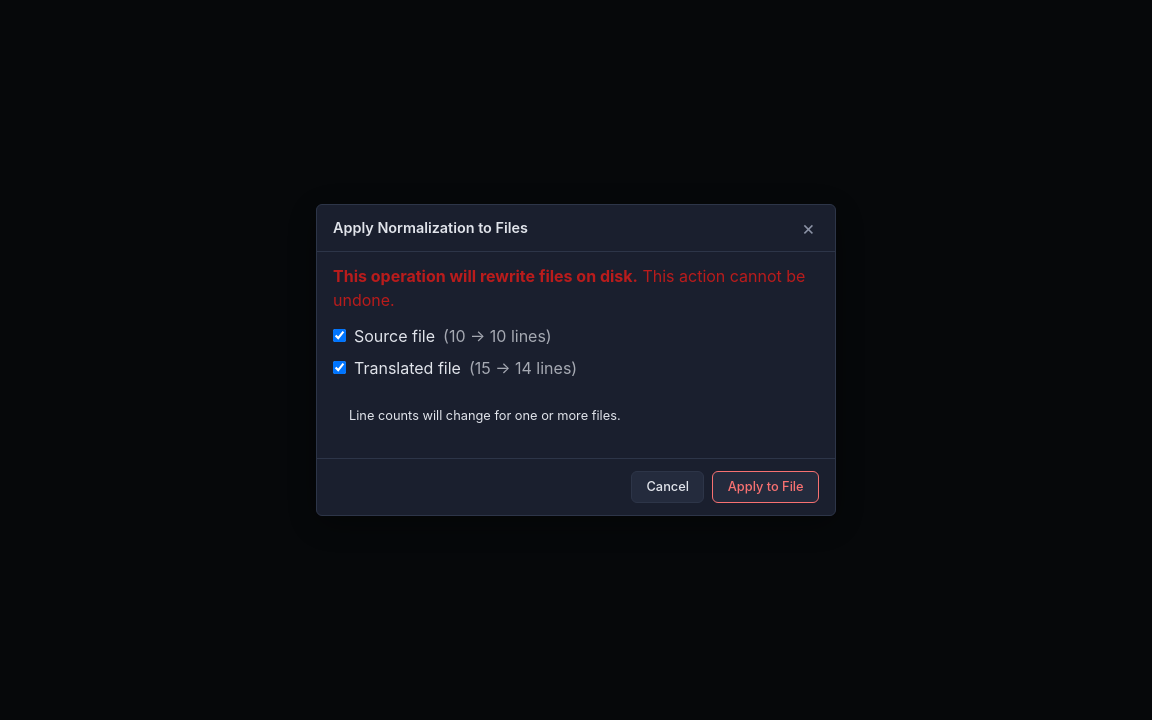
Test case: ApplyConfirmationModal › disables Apply button when both checkboxes are unchecked
Click the checkbox labelled "Source file(10 → 10 lines)" at (340, 336), box [333, 329, 346, 342]
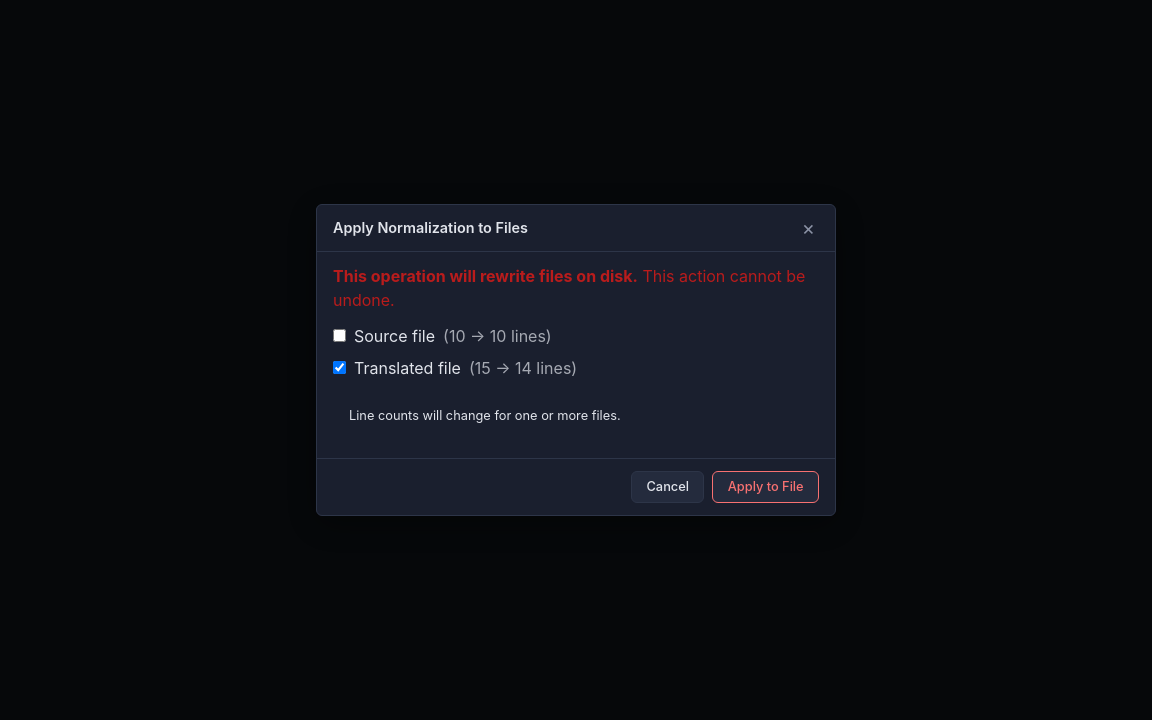
Click the checkbox labelled "Translated file(15 → 14 lines)" at (340, 368), box [333, 361, 346, 374]
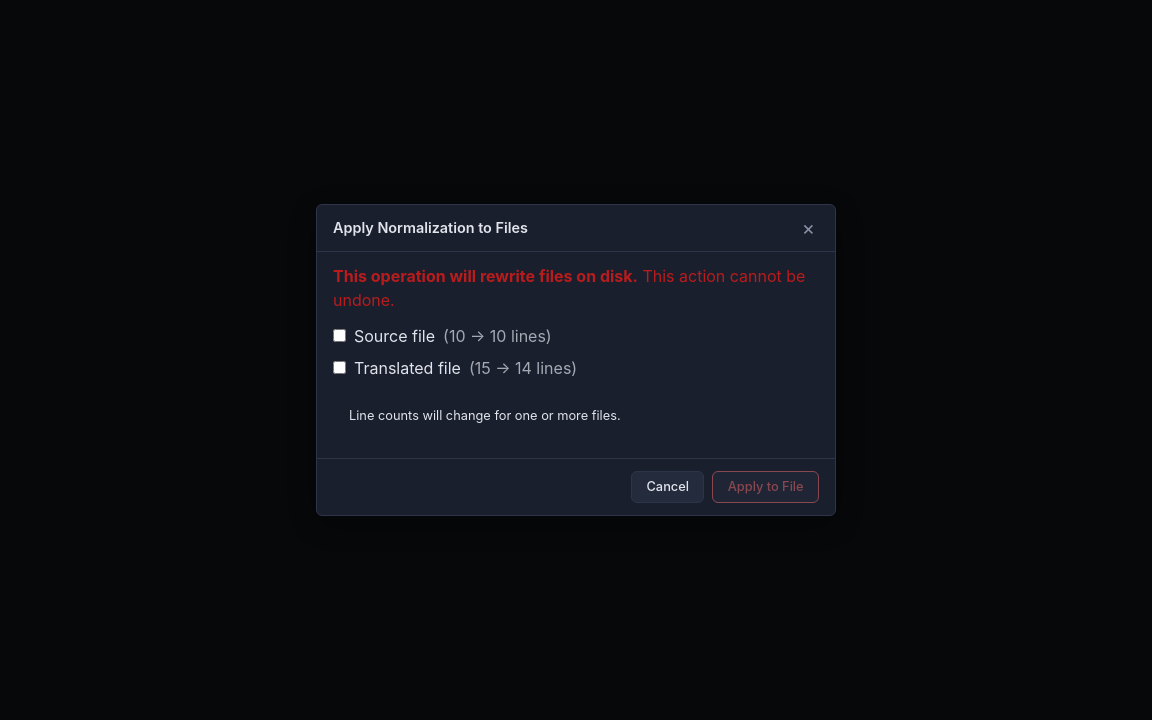
Now the button "Apply to File" is disabled, box [712, 471, 819, 503]
